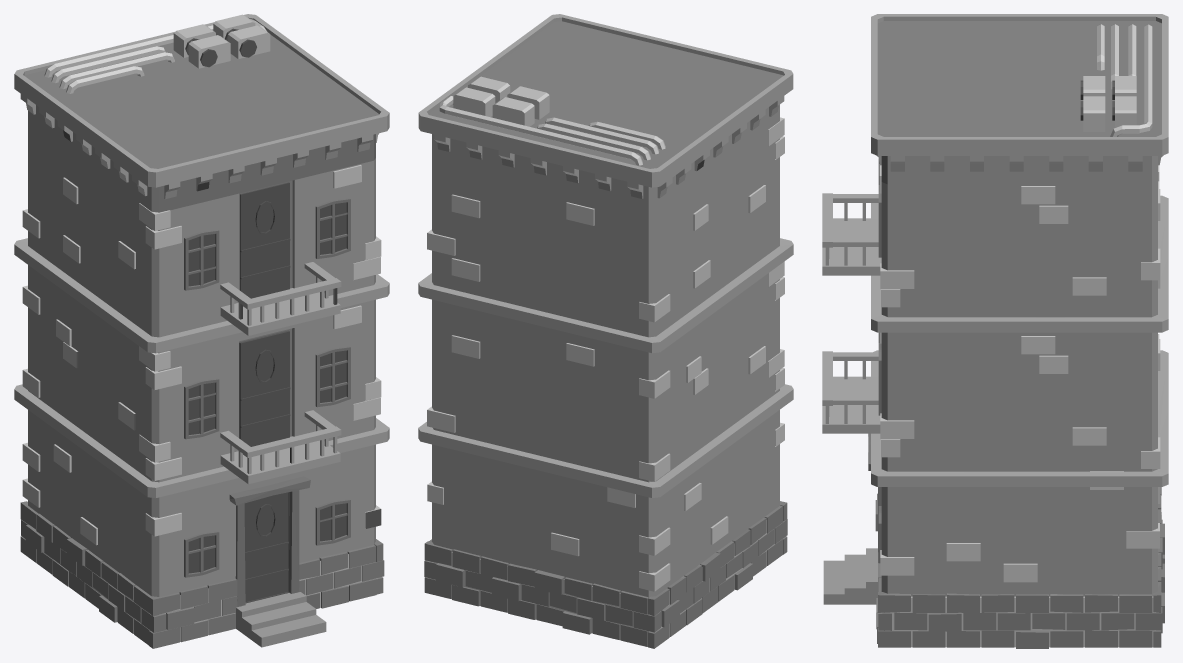
Rendered from qtb_3story_balcony.fbx.
The picture shows the model from 3 angles, left to right: view 1: azimuth 30°, elevation 25°; view 2: azimuth 150°, elevation 25°; view 3: azimuth 270°, elevation 25°; orthographic projection. The views are drawn at different scales.
Visible parts, largest first — view 1: qtb_3story_balcony_LOD0; view 2: qtb_3story_balcony_LOD0; view 3: qtb_3story_balcony_LOD0.
Boxes of the visible parts, x1,y1,x2,y2 form: qtb_3story_balcony_LOD0: [14, 14, 389, 648]; qtb_3story_balcony_LOD0: [418, 14, 793, 648]; qtb_3story_balcony_LOD0: [822, 14, 1168, 648].
Size of what is drawn, in the model's own units: 5.83 by 11.37 by 6.77.
